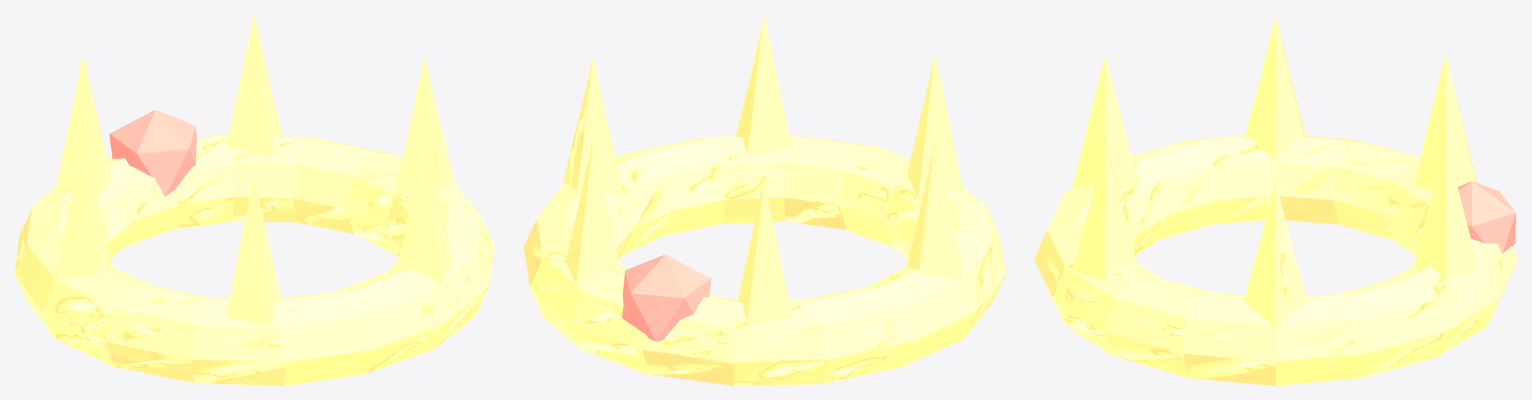
Rendered from crown.glb.
The picture shows the model from 3 angles, left to right: view 1: azimuth 30°, elevation 25°; view 2: azimuth 150°, elevation 25°; view 3: azimuth 270°, elevation 25°; orthographic projection.
Parts seen in each view (by area): view 1: CrownBand; view 2: CrownBand; view 3: CrownBand.
Part boxes in pixels (x1,y1,x2,y2): CrownBand: (14, 14, 494, 385); CrownBand: (523, 15, 1005, 385); CrownBand: (1034, 14, 1517, 385).
Bounding box in the file's own units: 0.8405 × 0.391 × 0.8383.
